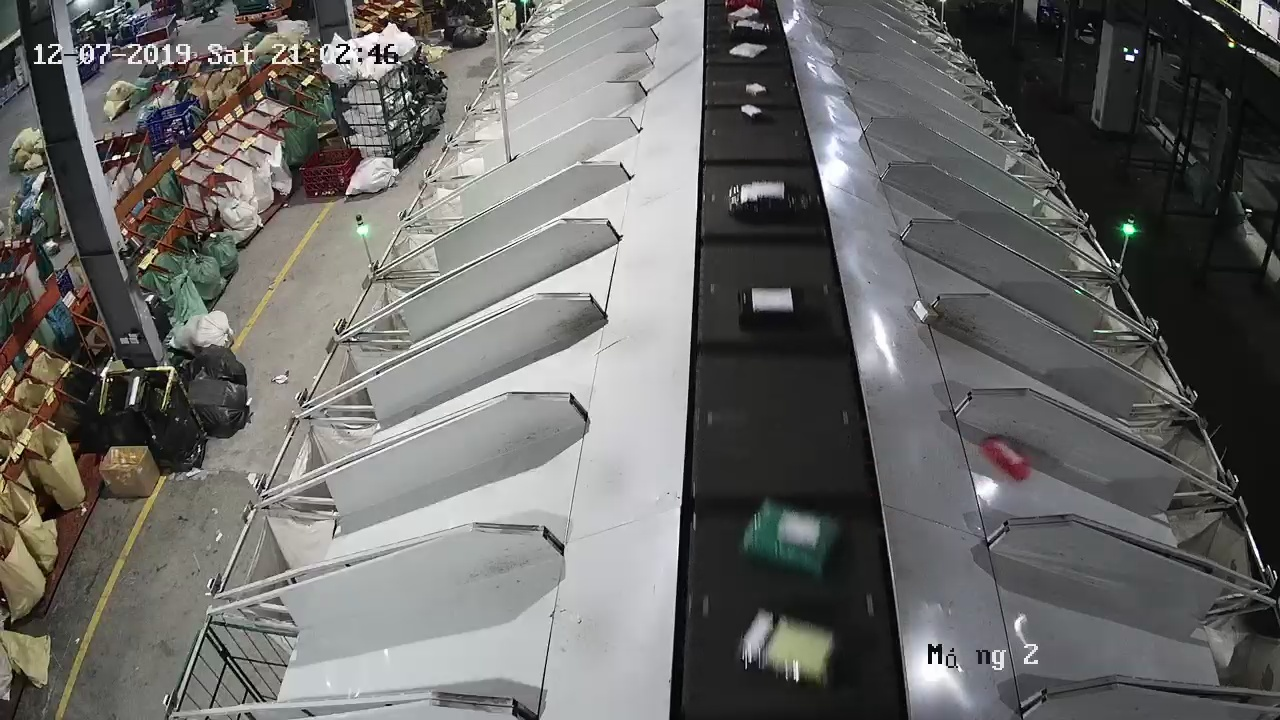parcel: (979, 434, 1030, 483)
